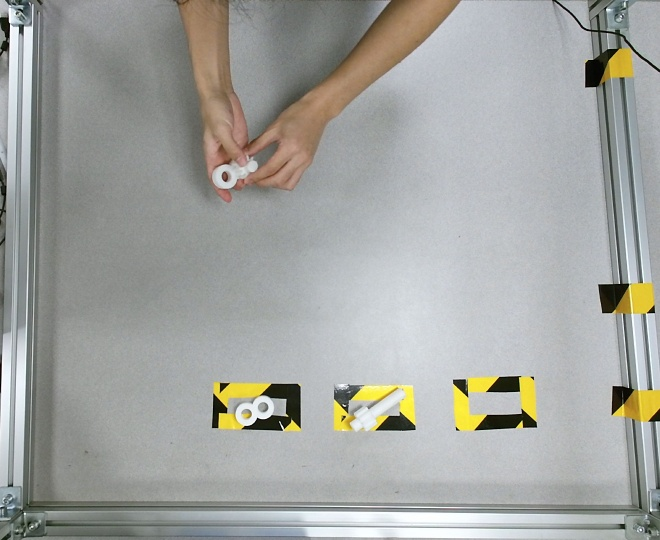stage_2: (212, 145, 259, 188)
